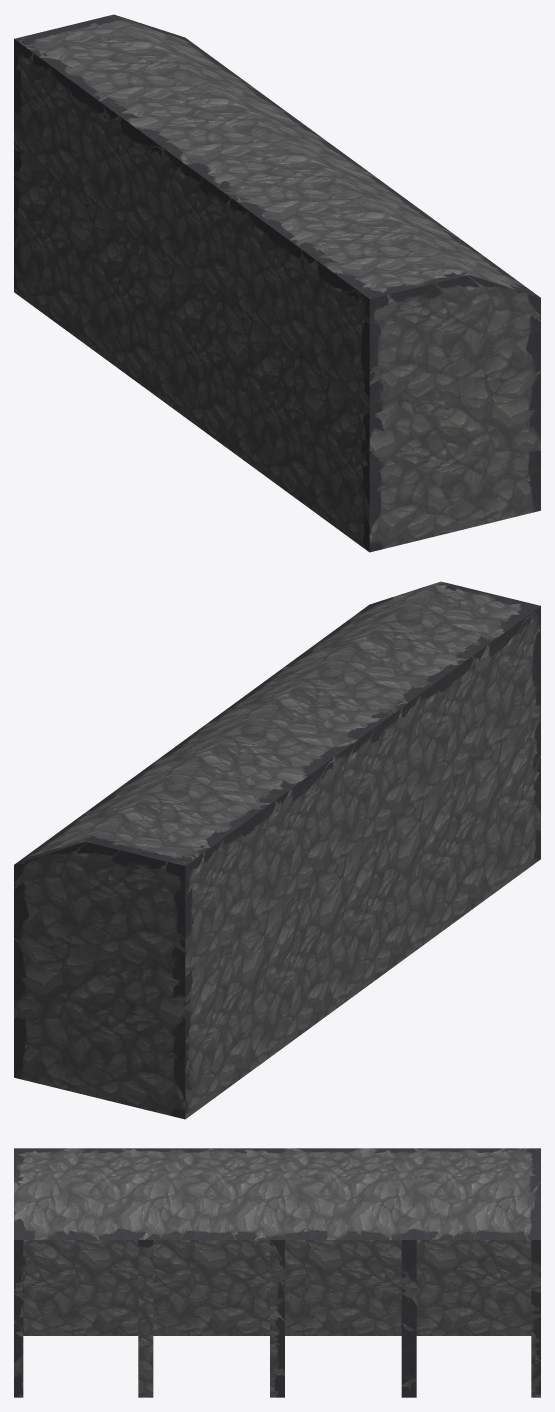
File: wallStones.fbx
3 views of the same model, one above another, from view 1: azimuth 30°, elevation 25°; view 2: azimuth 150°, elevation 25°; view 3: azimuth 270°, elevation 25° (orthographic). The views are drawn at different scales.
Parts seen in each view (by area): view 1: polymsh; view 2: polymsh; view 3: polymsh.
Part boxes in pixels (x1,y1,x2,y2): polymsh: [14, 14, 540, 552]; polymsh: [14, 581, 540, 1119]; polymsh: [14, 1148, 540, 1397].
Bounding box in the file's own units: 11.13 × 15.72 × 40.
